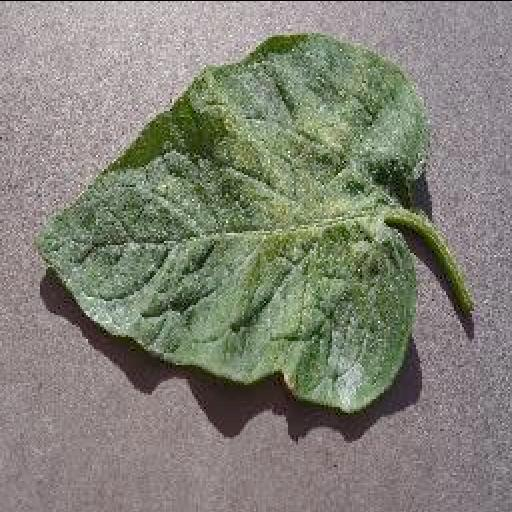disease_tomato: (30, 34, 432, 416)
